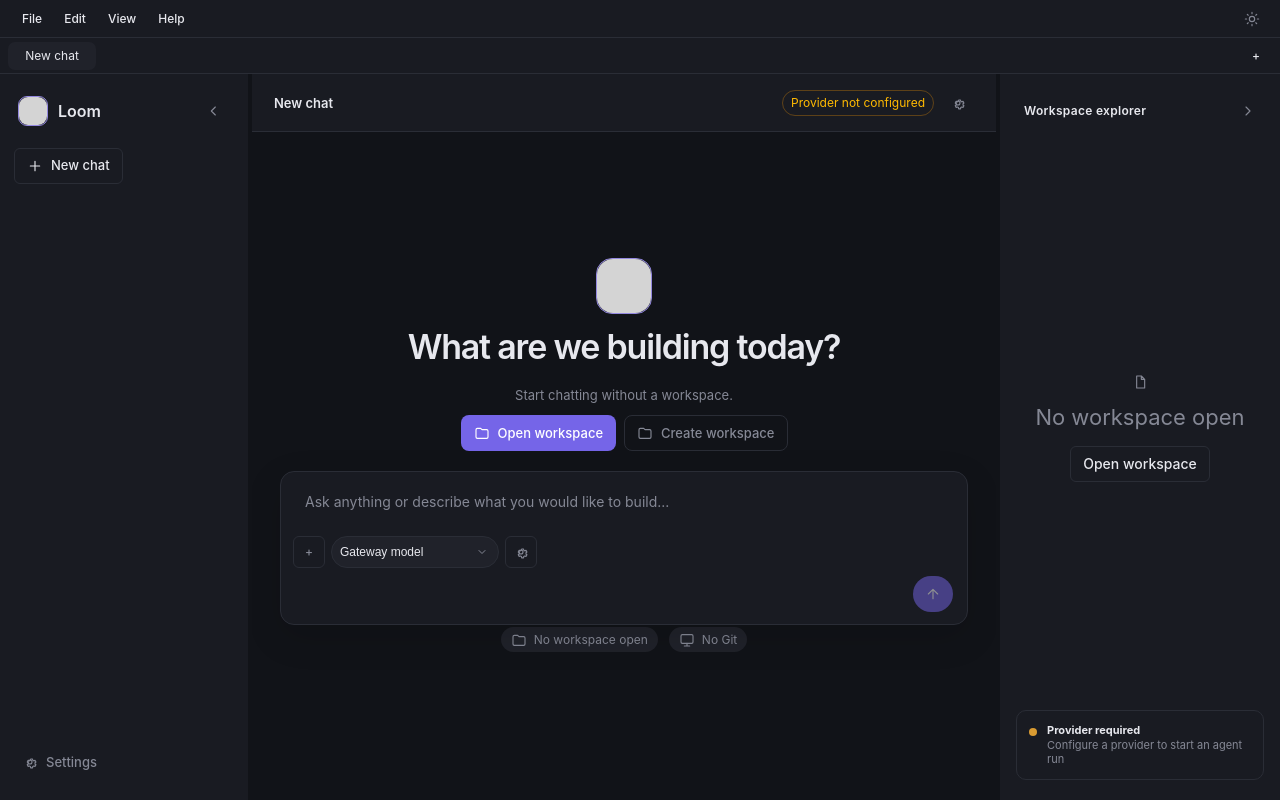
Test: MainUI testing › validates a new workspace name before asking for its parent folder
The width and height of the screenshot is (1280, 800).
Click the button "Create workspace": click(706, 432) [624, 414, 788, 450]
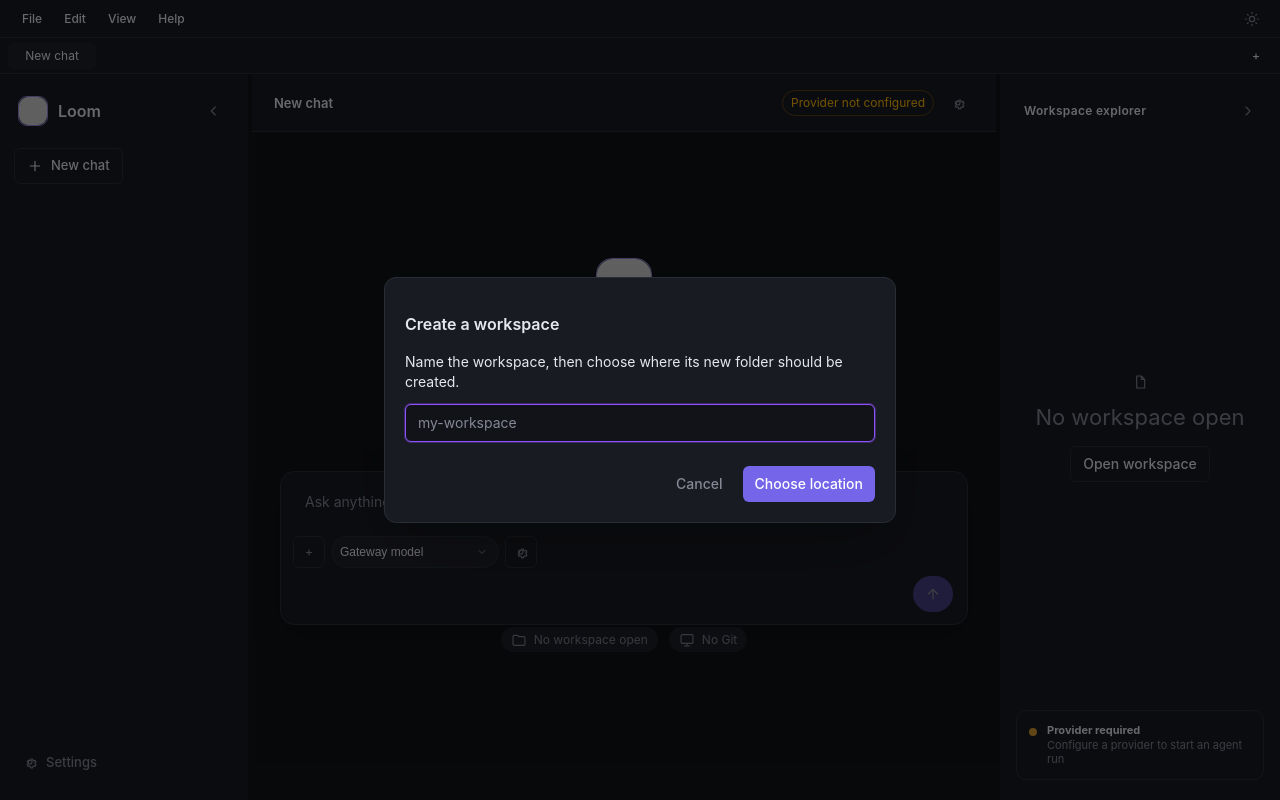
Check: the dialog "Create a workspace" is shown, box [384, 277, 896, 523]
In the field named "Workspace name": (640, 423) [405, 404, 875, 442], type "bad/name"
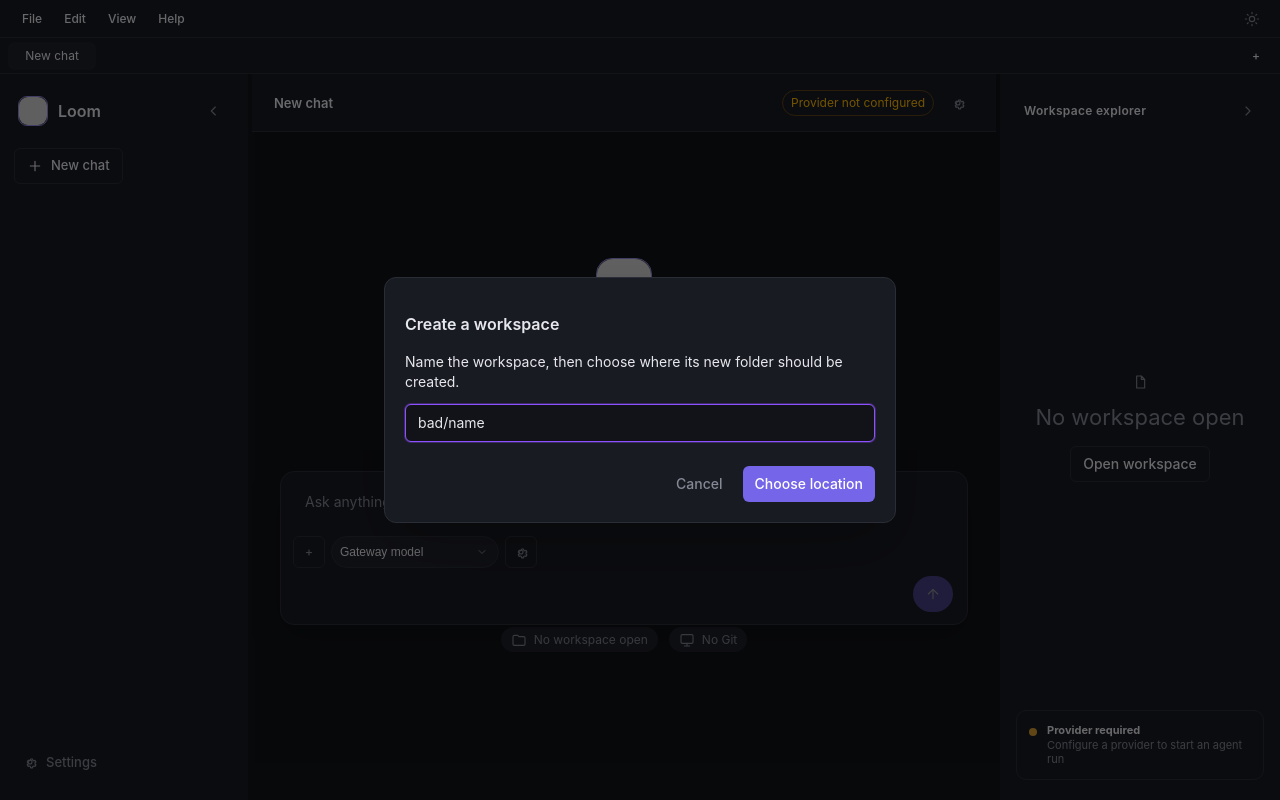
Click the button "Choose location": click(809, 484) [743, 466, 875, 502]
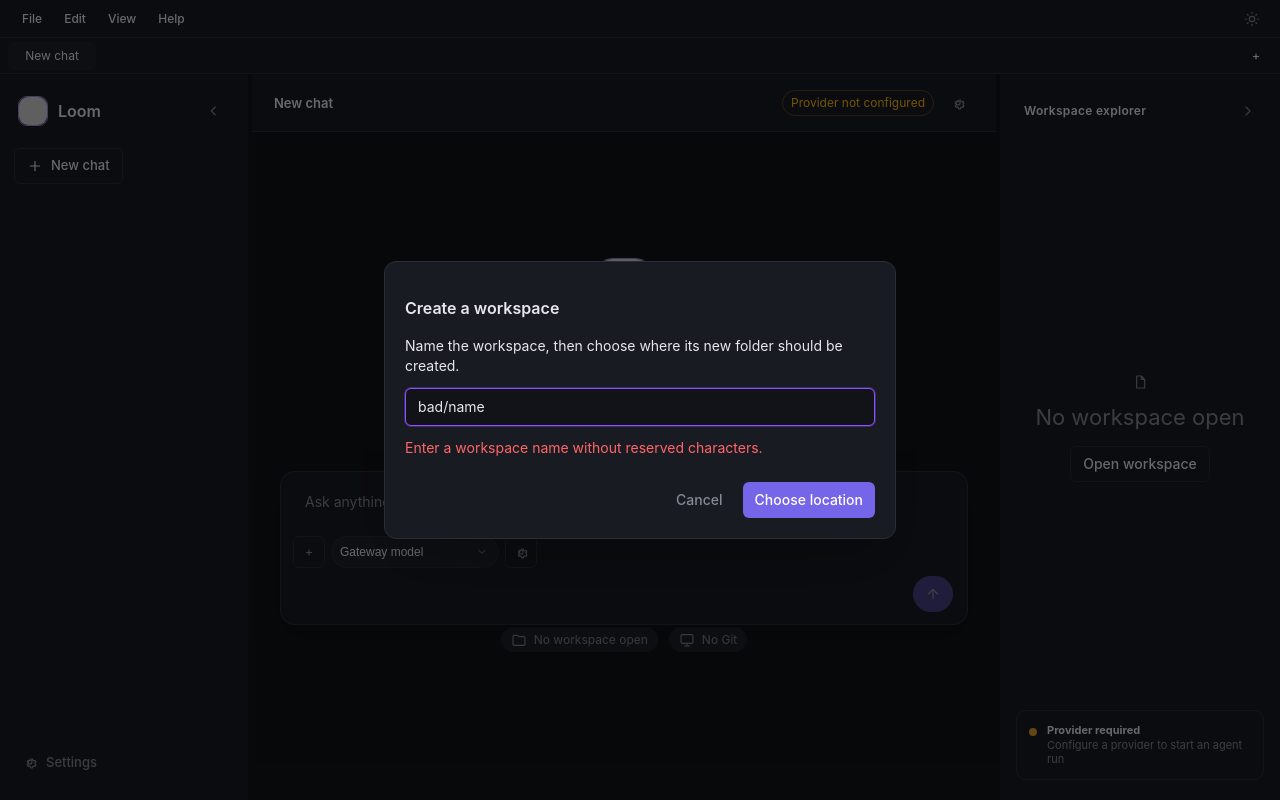
Check: the message reads "Enter a workspace name without reserved characters.", box [405, 439, 763, 456]
